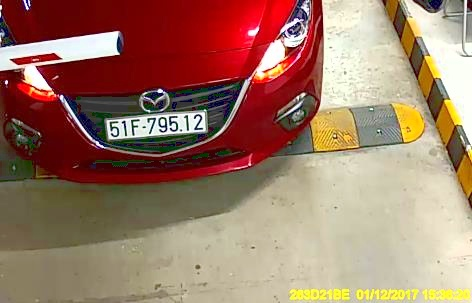plate: (104, 109, 206, 139)
